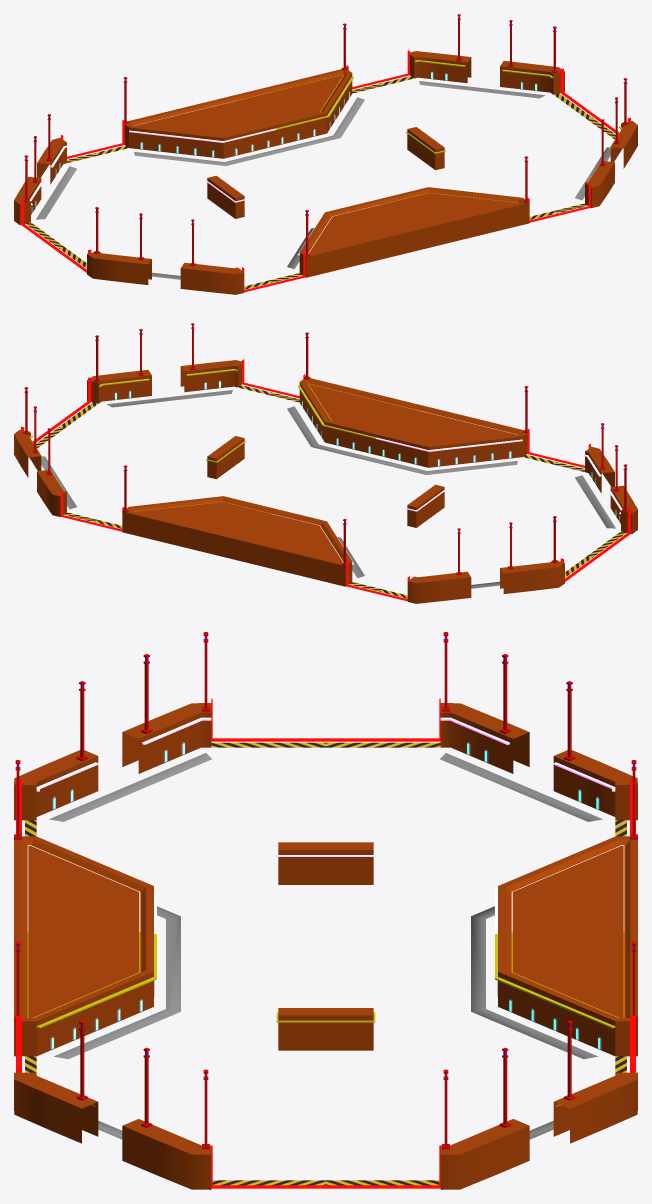
File: mesh_Spaceship_CTF_Walls.fbx
3 views of the same model, one above another, from view 1: azimuth 30°, elevation 25°; view 2: azimuth 150°, elevation 25°; view 3: azimuth 270°, elevation 25° (orthographic). The views are drawn at different scales.
Visible parts, largest first — view 1: mesh_spaceship_Wall.002, mesh_floorPatternExt, mesh_LightStick, mesh_CenterWalls, mesh_spaceship_DeathWalls, mesh_spaceship_CTF_limit, mesh_Spaceship_LightLine_CTF, mesh_Spaceship_LightsMergedBU.001; view 2: mesh_spaceship_Wall.002, mesh_floorPatternExt, mesh_LightStick, mesh_CenterWalls, mesh_spaceship_DeathWalls, mesh_spaceship_CTF_limit, mesh_Spaceship_LightLine_CTF, mesh_Spaceship_LightsMergedBU.001; view 3: mesh_spaceship_Wall.002, mesh_floorPatternExt, mesh_CenterWalls, mesh_LightStick, mesh_spaceship_CTF_limit, mesh_spaceship_DeathWalls, mesh_Spaceship_LightLine_CTF, mesh_Spaceship_LightsMergedBU.001.
Boxes of the visible parts, x1,y1,x2,y2 form: mesh_spaceship_Wall.002: [14, 51, 637, 294]; mesh_floorPatternExt: [36, 81, 610, 279]; mesh_LightStick: [23, 14, 628, 266]; mesh_CenterWalls: [206, 127, 445, 218]; mesh_spaceship_DeathWalls: [21, 50, 630, 292]; mesh_spaceship_CTF_limit: [25, 76, 615, 289]; mesh_Spaceship_LightLine_CTF: [29, 60, 622, 255]; mesh_Spaceship_LightsMergedBU.001: [31, 71, 537, 214]; mesh_spaceship_Wall.002: [14, 360, 637, 603]; mesh_floorPatternExt: [41, 390, 615, 588]; mesh_LightStick: [23, 323, 628, 575]; mesh_CenterWalls: [206, 436, 445, 527]; mesh_spaceship_DeathWalls: [21, 359, 630, 601]; mesh_spaceship_CTF_limit: [36, 385, 626, 598]; mesh_Spaceship_LightLine_CTF: [29, 369, 622, 564]; mesh_Spaceship_LightsMergedBU.001: [114, 380, 620, 523]; mesh_spaceship_Wall.002: [14, 703, 637, 1189]; mesh_floorPatternExt: [49, 753, 602, 1139]; mesh_CenterWalls: [276, 842, 375, 1050]; mesh_LightStick: [14, 632, 637, 1149]; mesh_spaceship_CTF_limit: [25, 742, 626, 1185]; mesh_spaceship_DeathWalls: [16, 698, 635, 1188]; mesh_Spaceship_LightLine_CTF: [36, 717, 615, 1106]; mesh_Spaceship_LightsMergedBU.001: [50, 742, 601, 1050].
Size of the model in its own units: 59.97 by 6.95 by 35.02.
